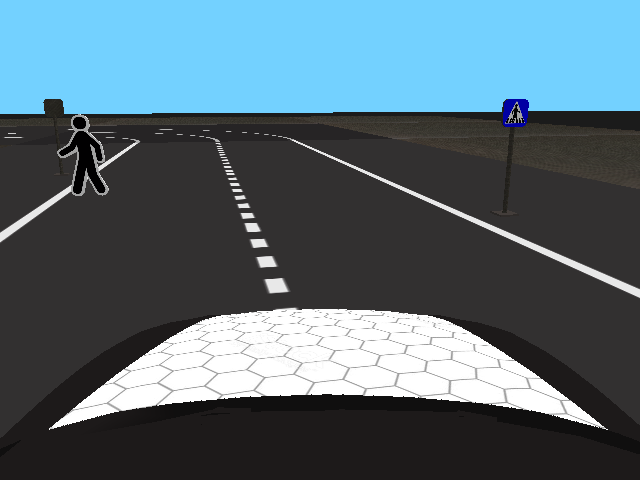pedestrian: (55, 113, 109, 198)
